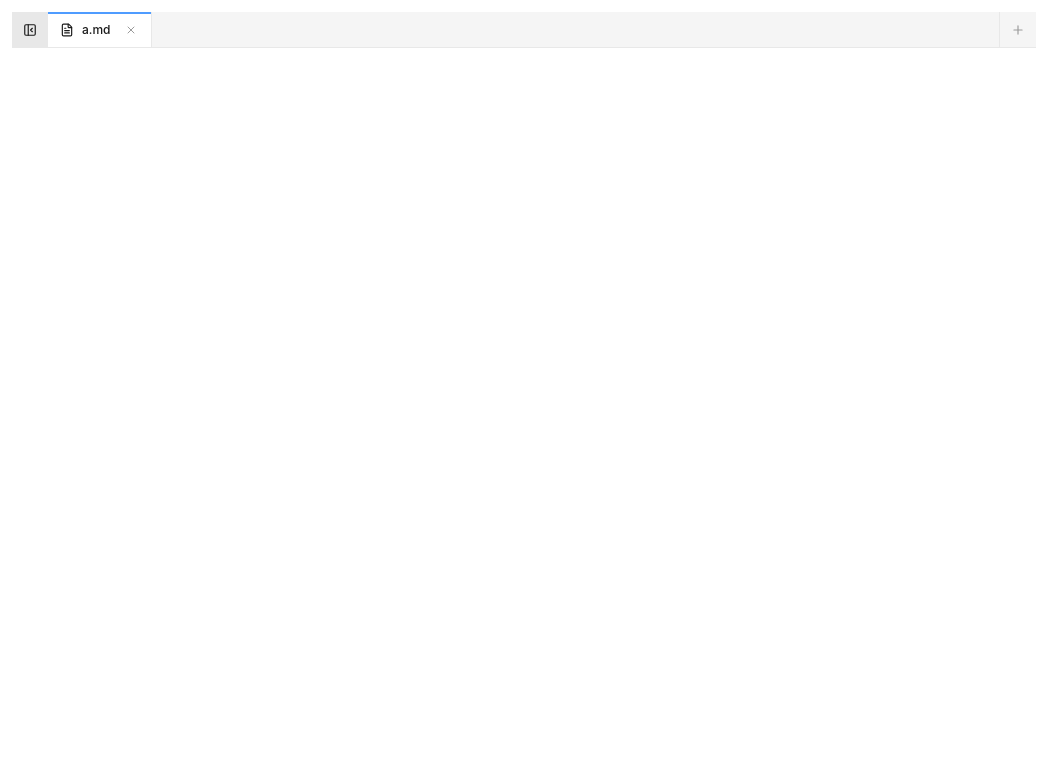
Test: TabsBar — context menu (AC#3) › closes the menu on a pointerdown outside it (UI-8)
The width and height of the screenshot is (1048, 780).
Right-click the button with class "tab" at (100, 30), box [48,12,152,48]
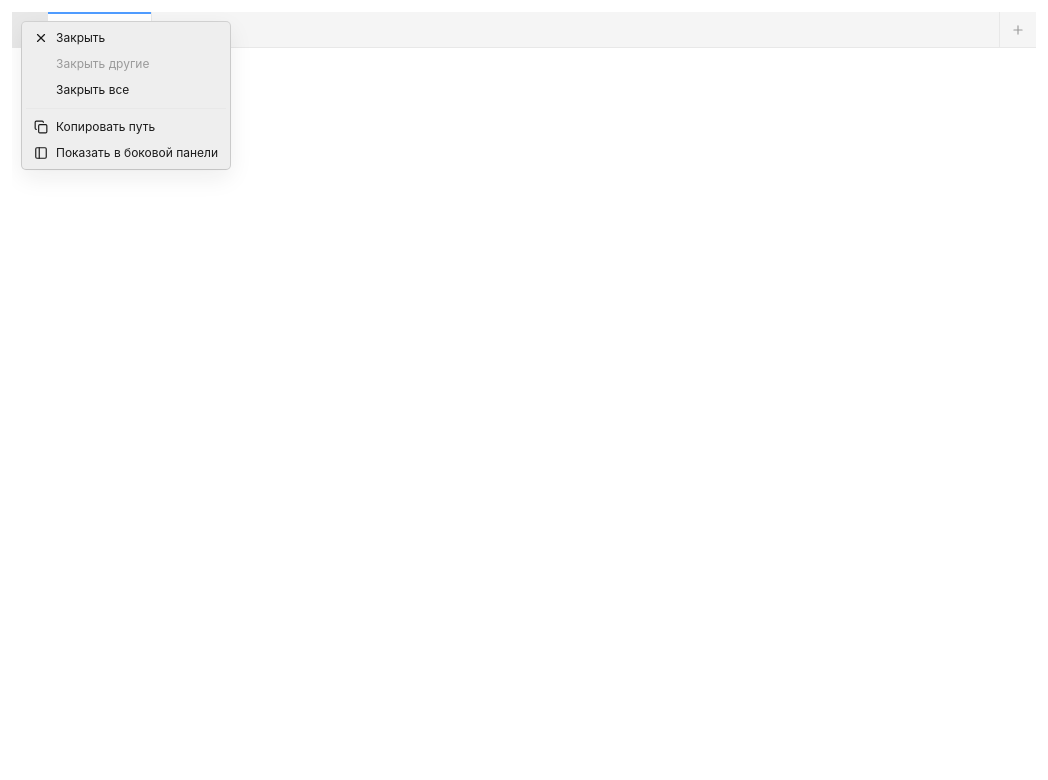
Now the menu with class "context-menu" is shown, box [22,22,230,169]
Press the mouse on the element that starts with "a.md" at (524, 396), box [12,12,1036,779]
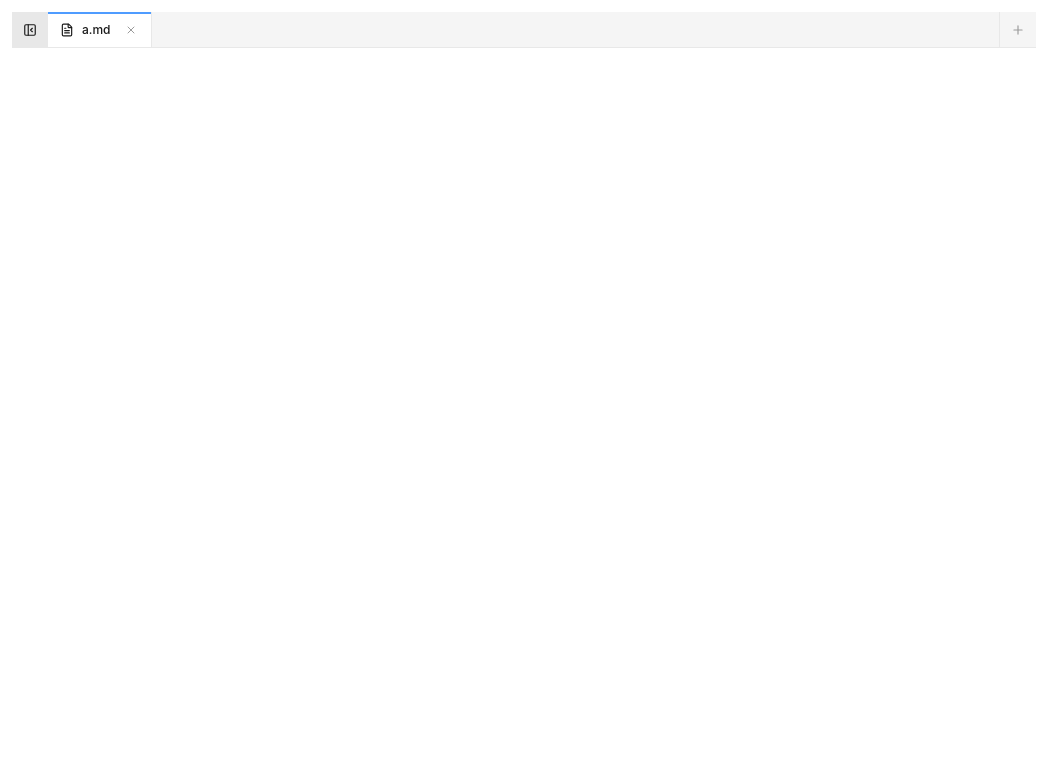
Now the menu with class "context-menu" is gone
